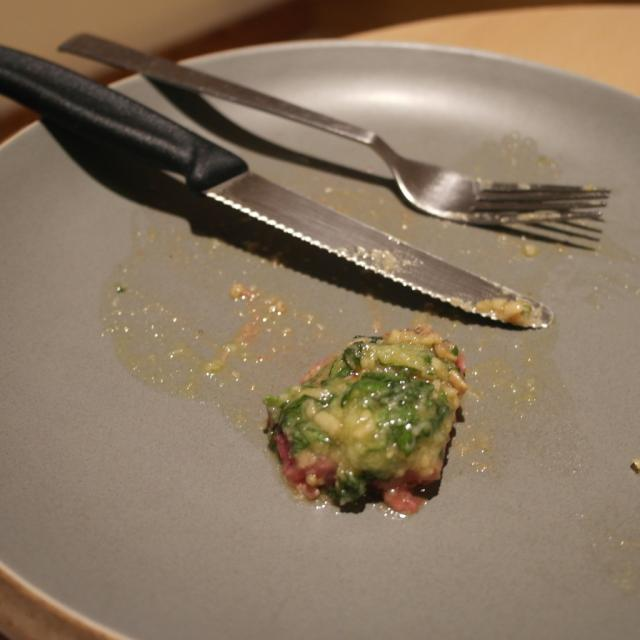Knife: (0, 47, 552, 327)
